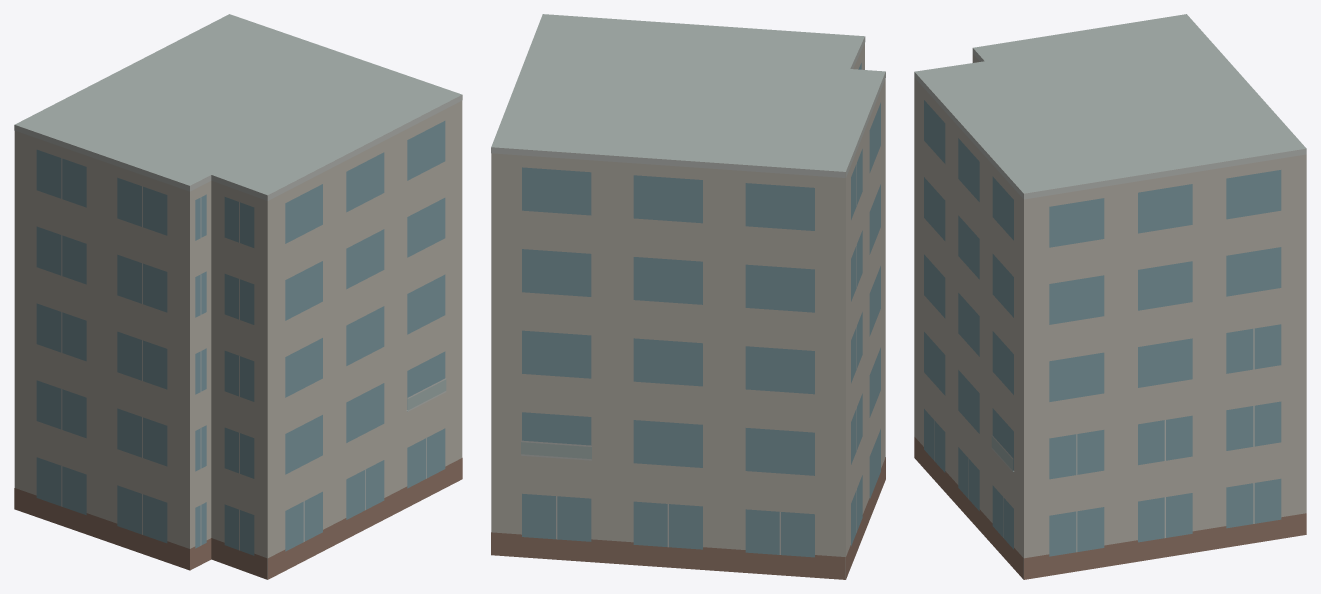
The model's file is survey-upis-32933150.glb.
3 renders of one model, left to right at view 1: azimuth 30°, elevation 25°; view 2: azimuth 150°, elevation 25°; view 3: azimuth 270°, elevation 25°, orthographic. The views are drawn at different scales.
Parts seen in each view (by area): view 1: survey-upis-32933150.tmp; view 2: survey-upis-32933150.tmp; view 3: survey-upis-32933150.tmp.
Boxes of the visible parts, x1,y1,x2,y2 form: survey-upis-32933150.tmp: (14, 14, 462, 579); survey-upis-32933150.tmp: (491, 14, 885, 579); survey-upis-32933150.tmp: (914, 14, 1306, 579).
Size of the model in its own units: 16.23 by 16.25 by 14.97.
